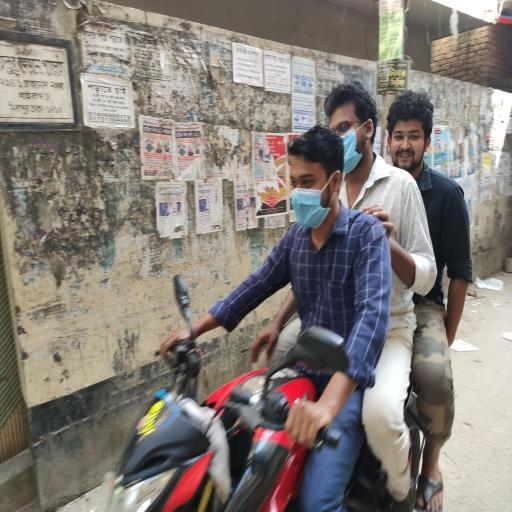no helmet: (260, 124, 350, 265)
triple riding: (91, 90, 502, 512)
